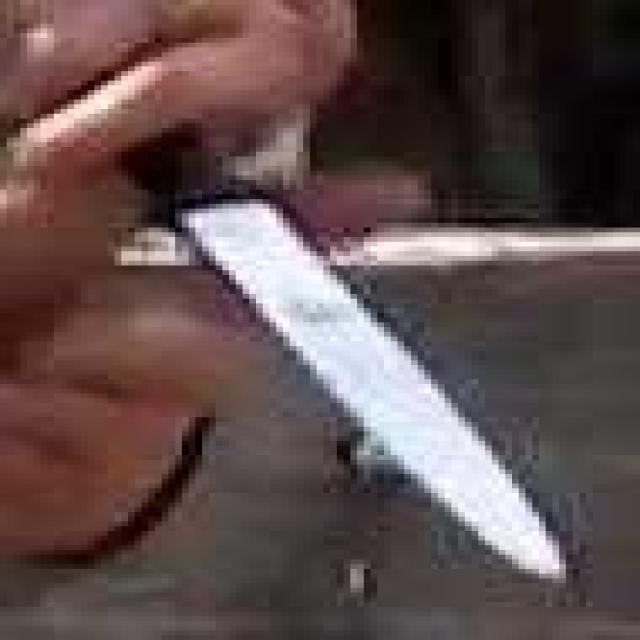Knife: (48, 48, 587, 588)
